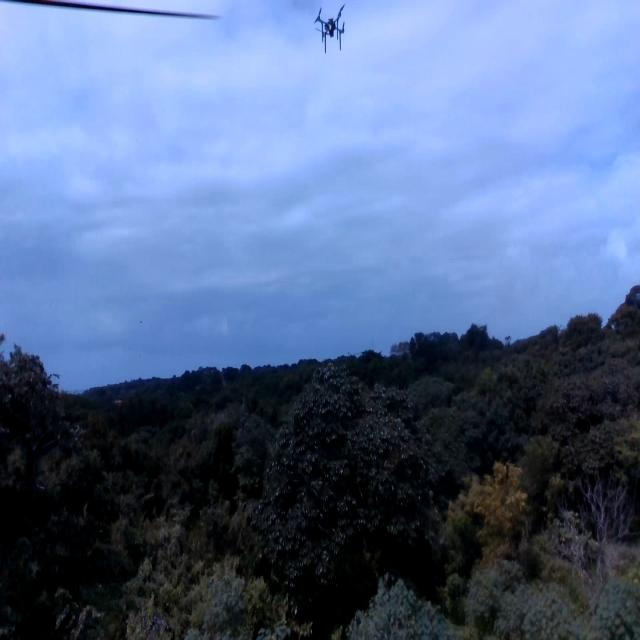-uav-: (311, 3, 356, 56)
